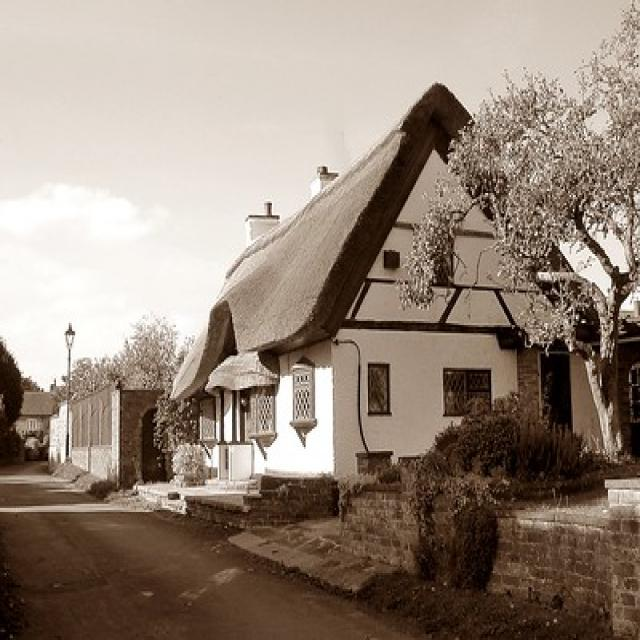Normal_building: (165, 80, 611, 509)
